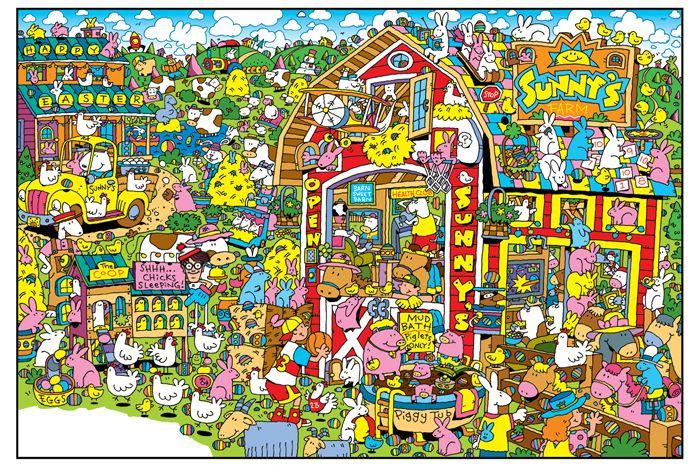waldo: (176, 242, 211, 283)
